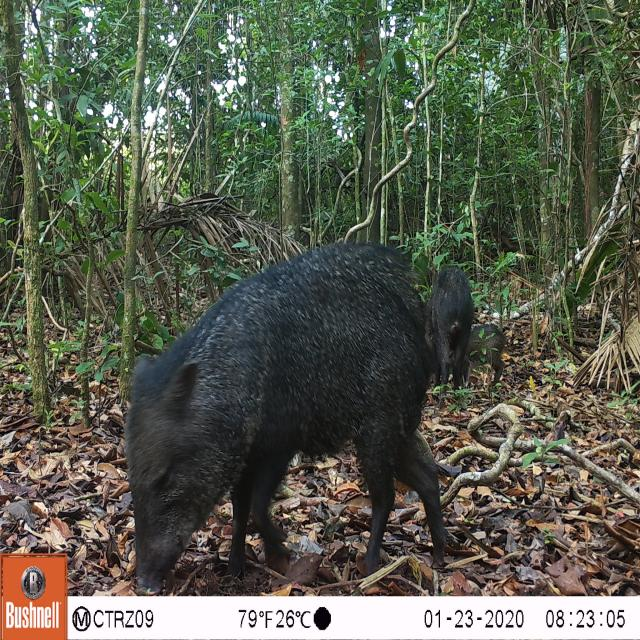Collared Peccary: (111, 246, 450, 588), (418, 260, 471, 390), (457, 319, 511, 388)
